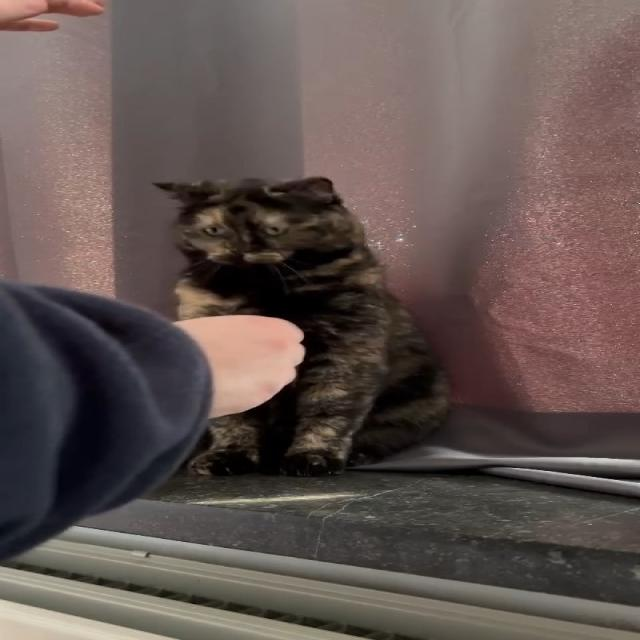authorized: (151, 175, 452, 477)
